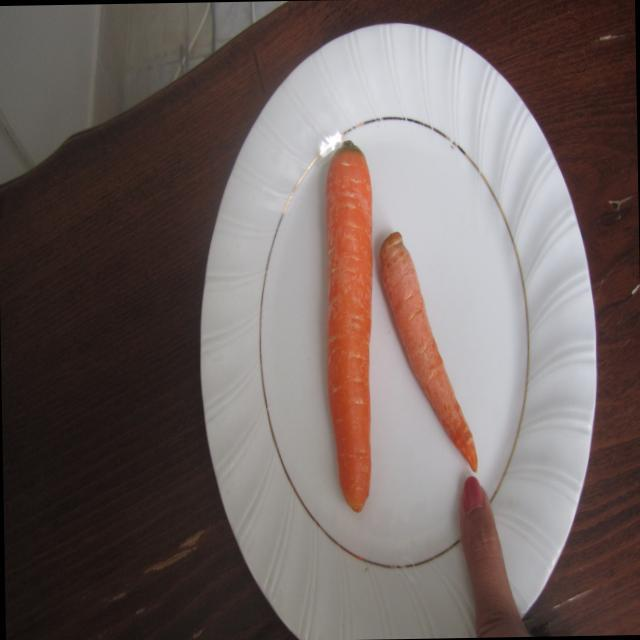Carrot: (376, 219, 486, 486), (317, 134, 384, 516)
Finger: (442, 476, 514, 627)
